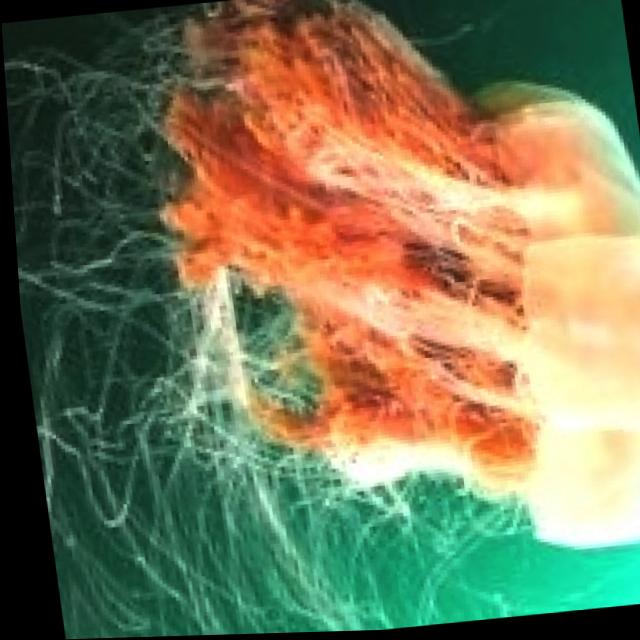Jellyfish: (126, 0, 640, 591)
